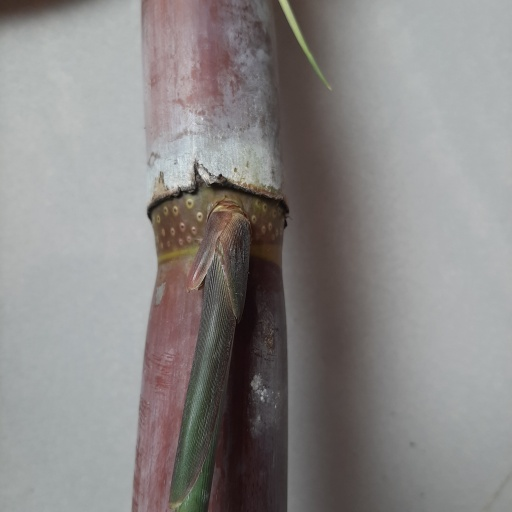Sprouted_Bud: (207, 201, 253, 317)
